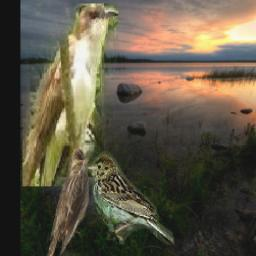Cuckoo: (22, 3, 118, 186)
Sparrow: (87, 151, 175, 245), (46, 149, 90, 256)
